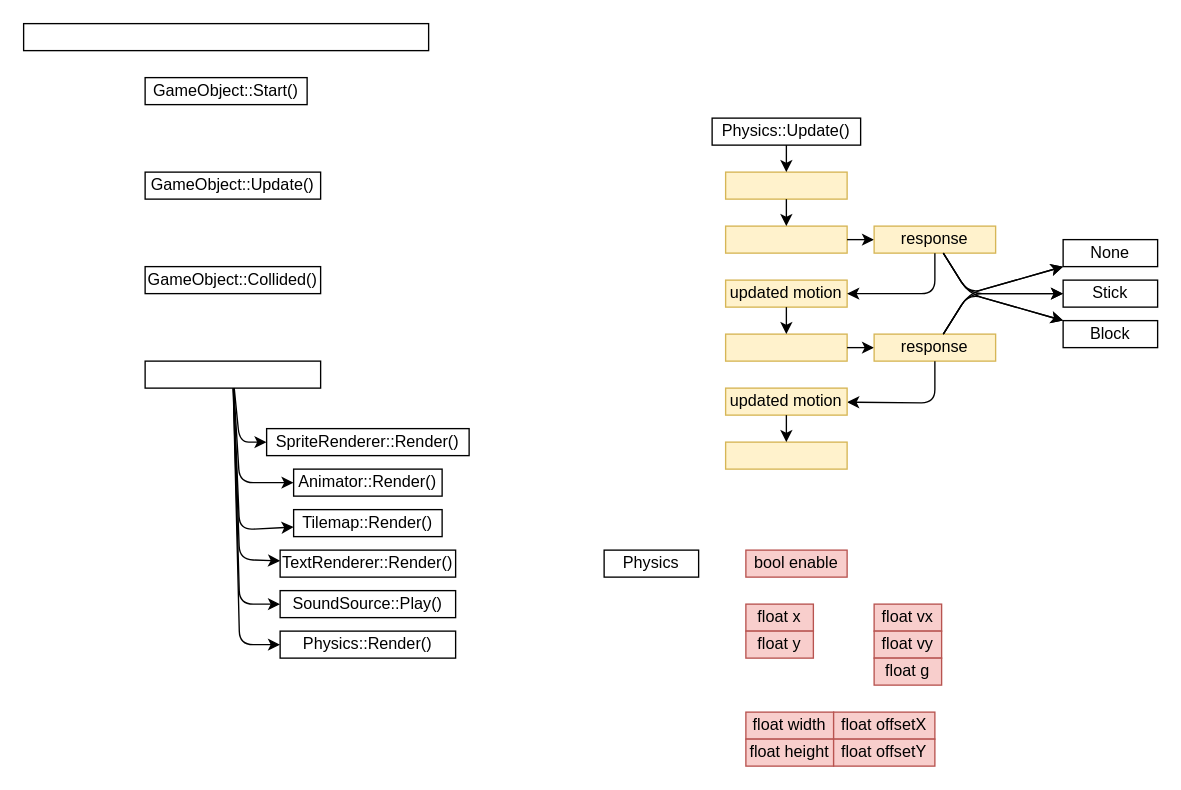
The diagram is 1181 pixels wide and 790 high, and some of its shapes have lost their labels. Here are the shapes that lost their labels. From the top down, the centre of each, then its label:
At (225,36): "How does physics system work in overall game loop ?".
At (785,185): "initial motion".
At (785,239): "overlapping".
At (785,347): "sweptAABB".
At (232,374): "GameObject::Render()".
At (785,455): "final motion".
